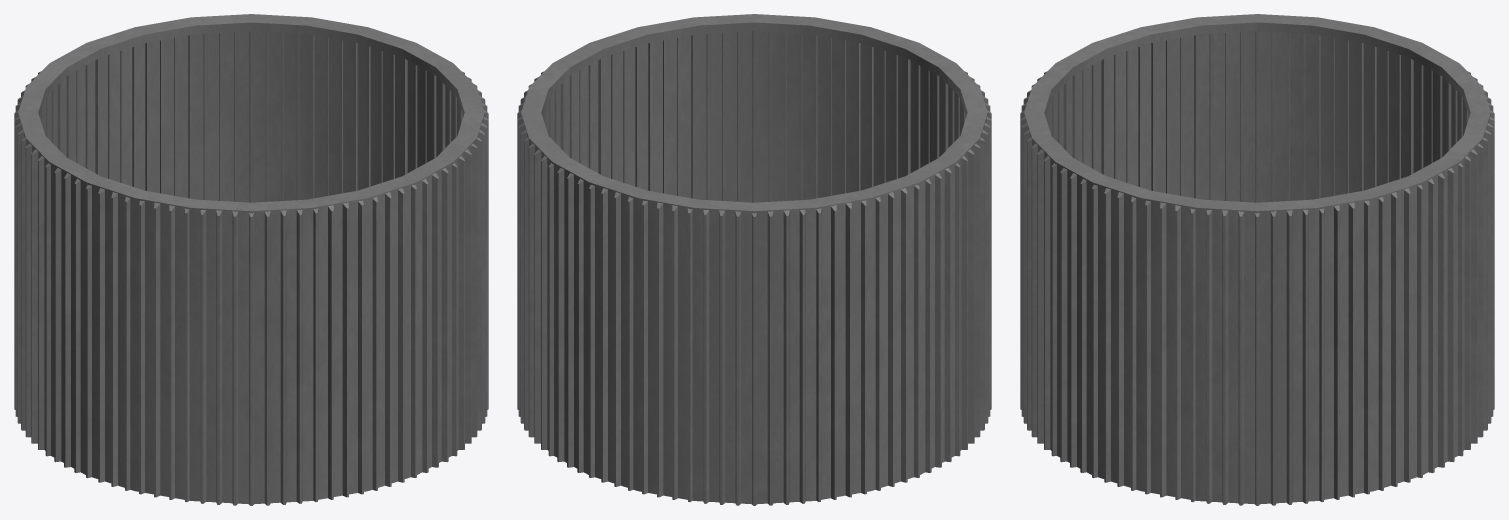
Rendered from ksprocket.fbx.
3 renders of one model, left to right at view 1: azimuth 30°, elevation 25°; view 2: azimuth 150°, elevation 25°; view 3: azimuth 270°, elevation 25°, orthographic.
Parts seen in each view (by area): view 1: wall.004; view 2: wall.004; view 3: wall.004.
Part boxes in pixels (x1=…): wall.004: x1=14, y1=14, x2=488, y2=505; wall.004: x1=517, y1=14, x2=991, y2=505; wall.004: x1=1020, y1=14, x2=1494, y2=505.
Bounding box in the file's own units: 1027 × 700 × 1026.
